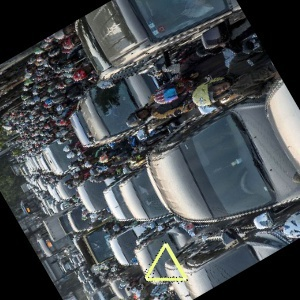triangle: (144, 241, 189, 287)
